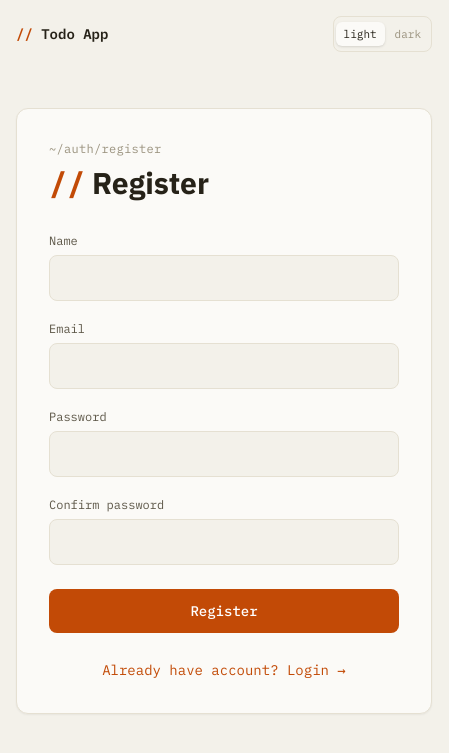
Test: Pages tests › Sign Up Page › should validate password length
In the field labelled "Name": [224, 278] box x1=49 y1=255 x2=399 y2=301, type "John Doe"
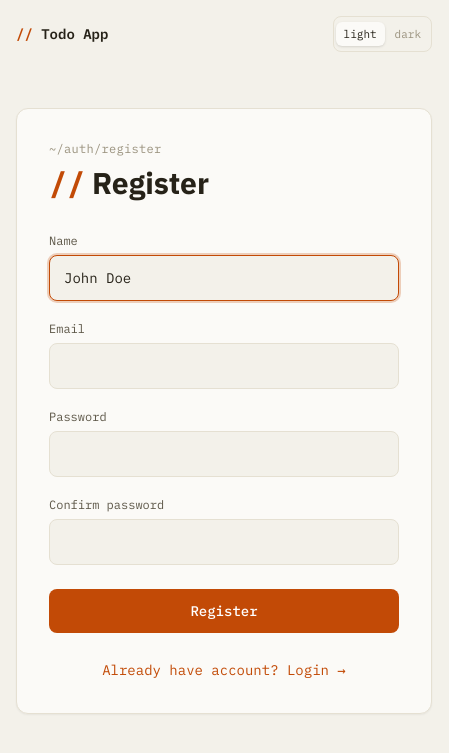
In the field labelled "Email": [224, 366] box x1=49 y1=343 x2=399 y2=389, type "john@example.com"
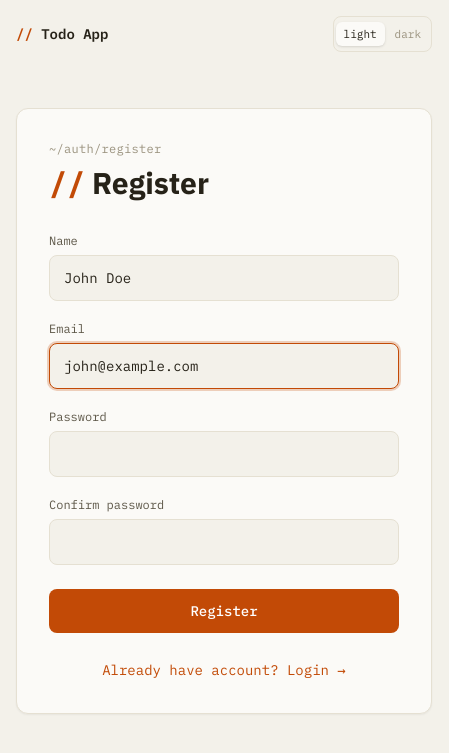
In the password field labelled "Password": [224, 454] box x1=49 y1=431 x2=399 y2=477, type "123"
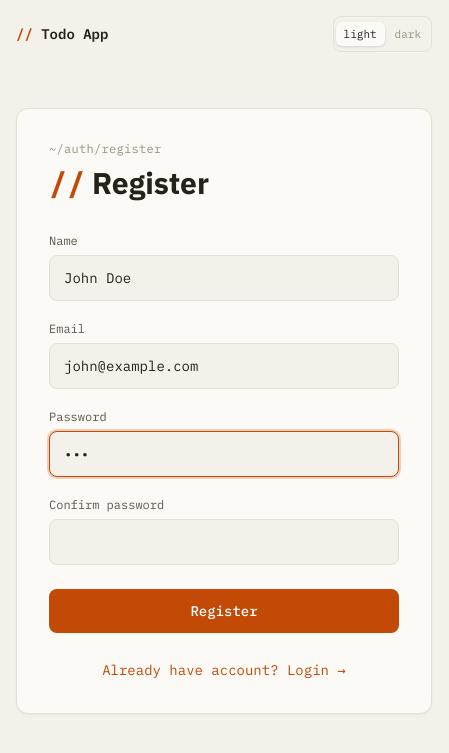
In the password field labelled "Confirm password": [224, 542] box x1=49 y1=519 x2=399 y2=565, type "123"
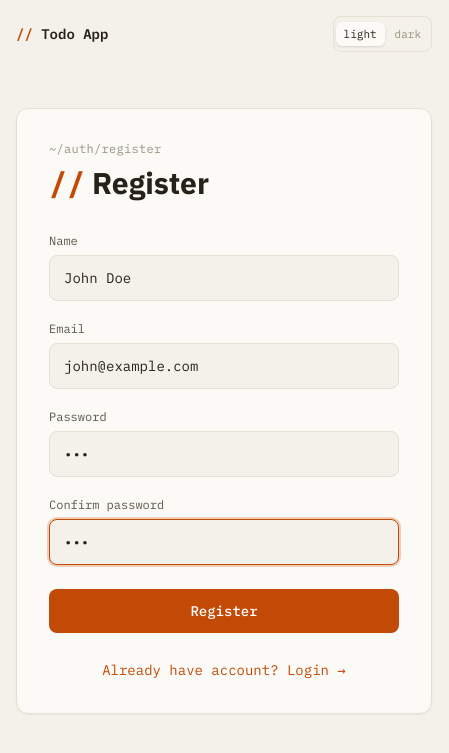
Click the button "Register": [224, 611] box x1=49 y1=589 x2=399 y2=633
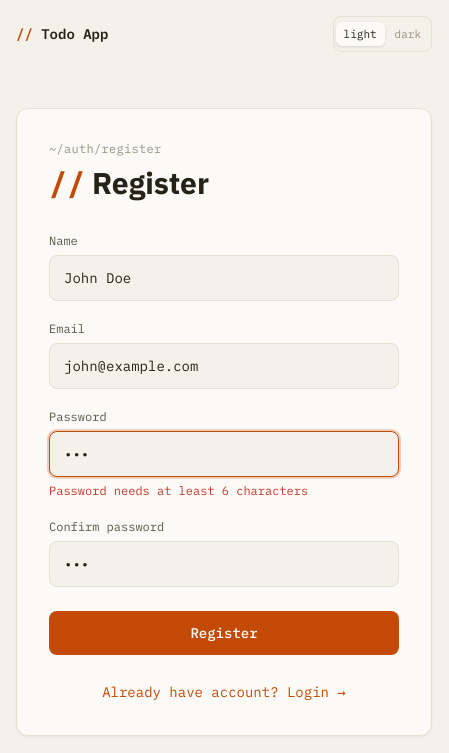
Expected: the text "Password needs at least 6 characters" is shown, x1=49 y1=483 x2=308 y2=498
